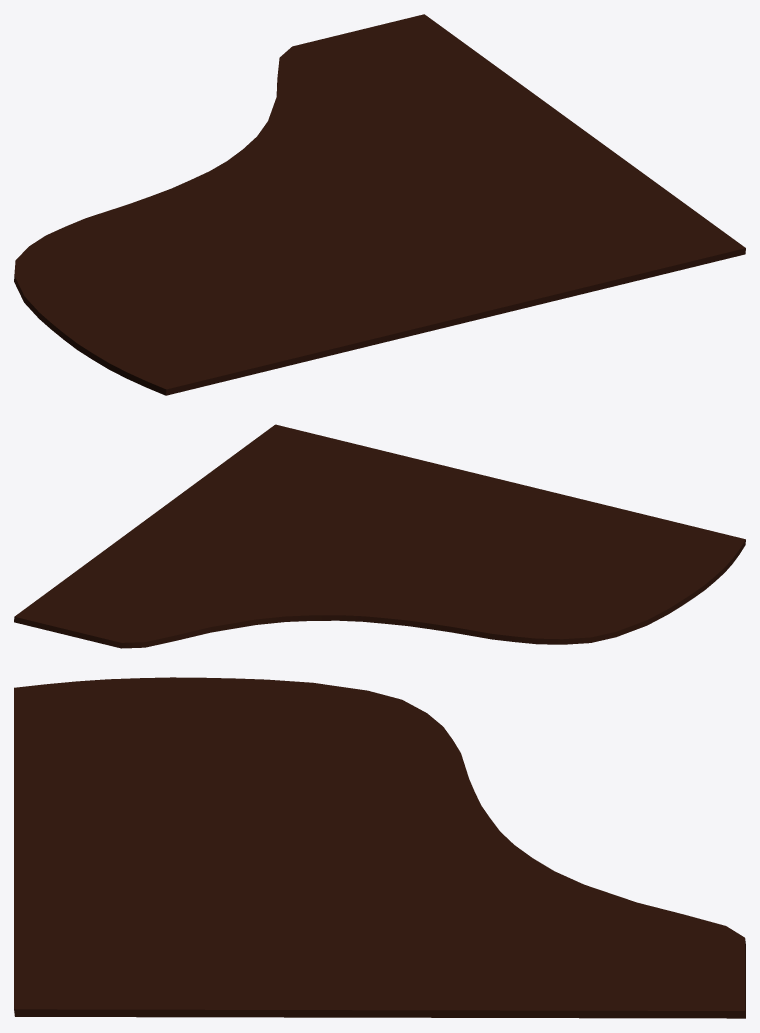
File: LV1_GrandPianoLid.fbx
3 views of the same model, one above another, from view 1: azimuth 30°, elevation 25°; view 2: azimuth 150°, elevation 25°; view 3: azimuth 270°, elevation 25° (orthographic). The views are drawn at different scales.
Parts seen in each view (by area): view 1: polySurface14; view 2: polySurface14; view 3: polySurface14.
Part boxes in pixels (x1,y1,x2,y2): polySurface14: (14, 14, 745, 395); polySurface14: (14, 424, 745, 648); polySurface14: (14, 677, 745, 1018).
Bounding box in the file's own units: 3.62 × 0.0465 × 3.37.
